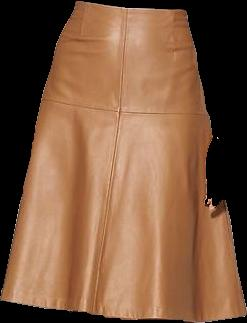Hemline: (1, 297, 246, 322)
Waistline: (39, 98, 208, 116), (74, 0, 186, 12)
